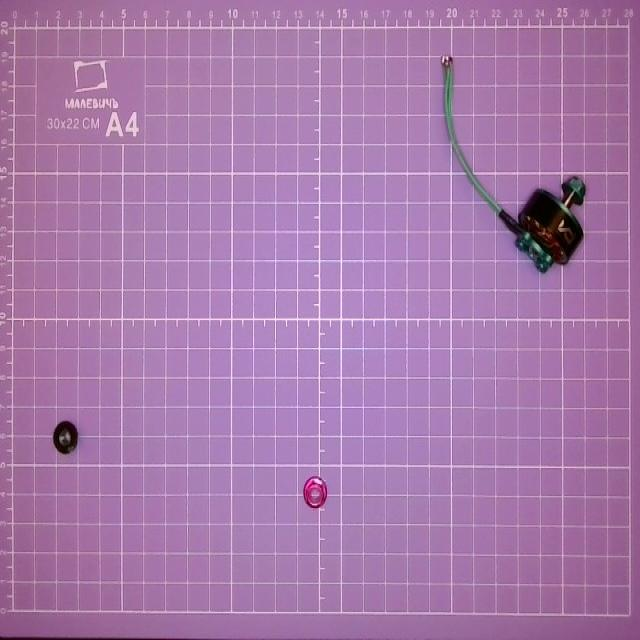motor: (439, 49, 588, 272)
screw_M5: (52, 414, 78, 460), (300, 473, 330, 511)
